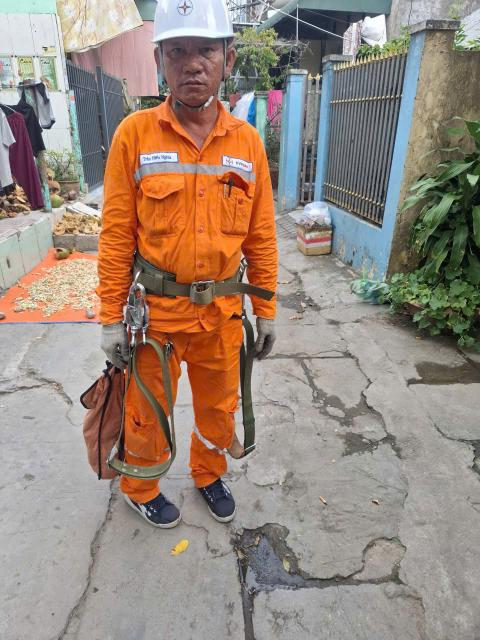gloves: (90, 312, 145, 379), (246, 314, 283, 368)
harness: (123, 251, 268, 302)
helmet: (138, 0, 274, 56)
shoes: (109, 473, 188, 534), (191, 461, 242, 525)
